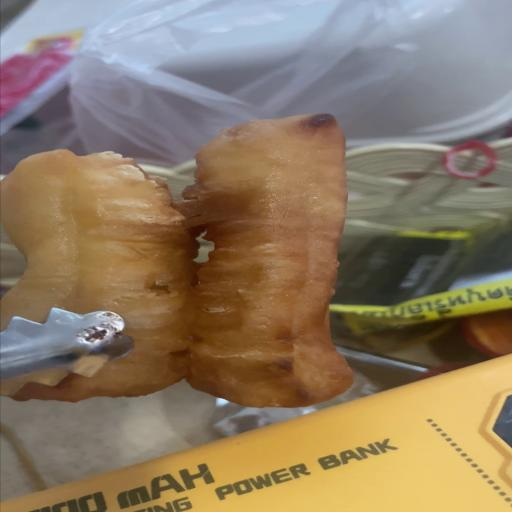street_golden_defect: (0, 113, 349, 407)
